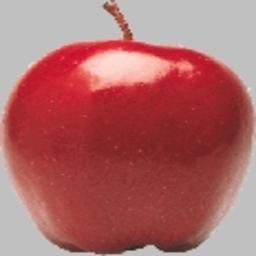apple: (0, 40, 253, 252)
